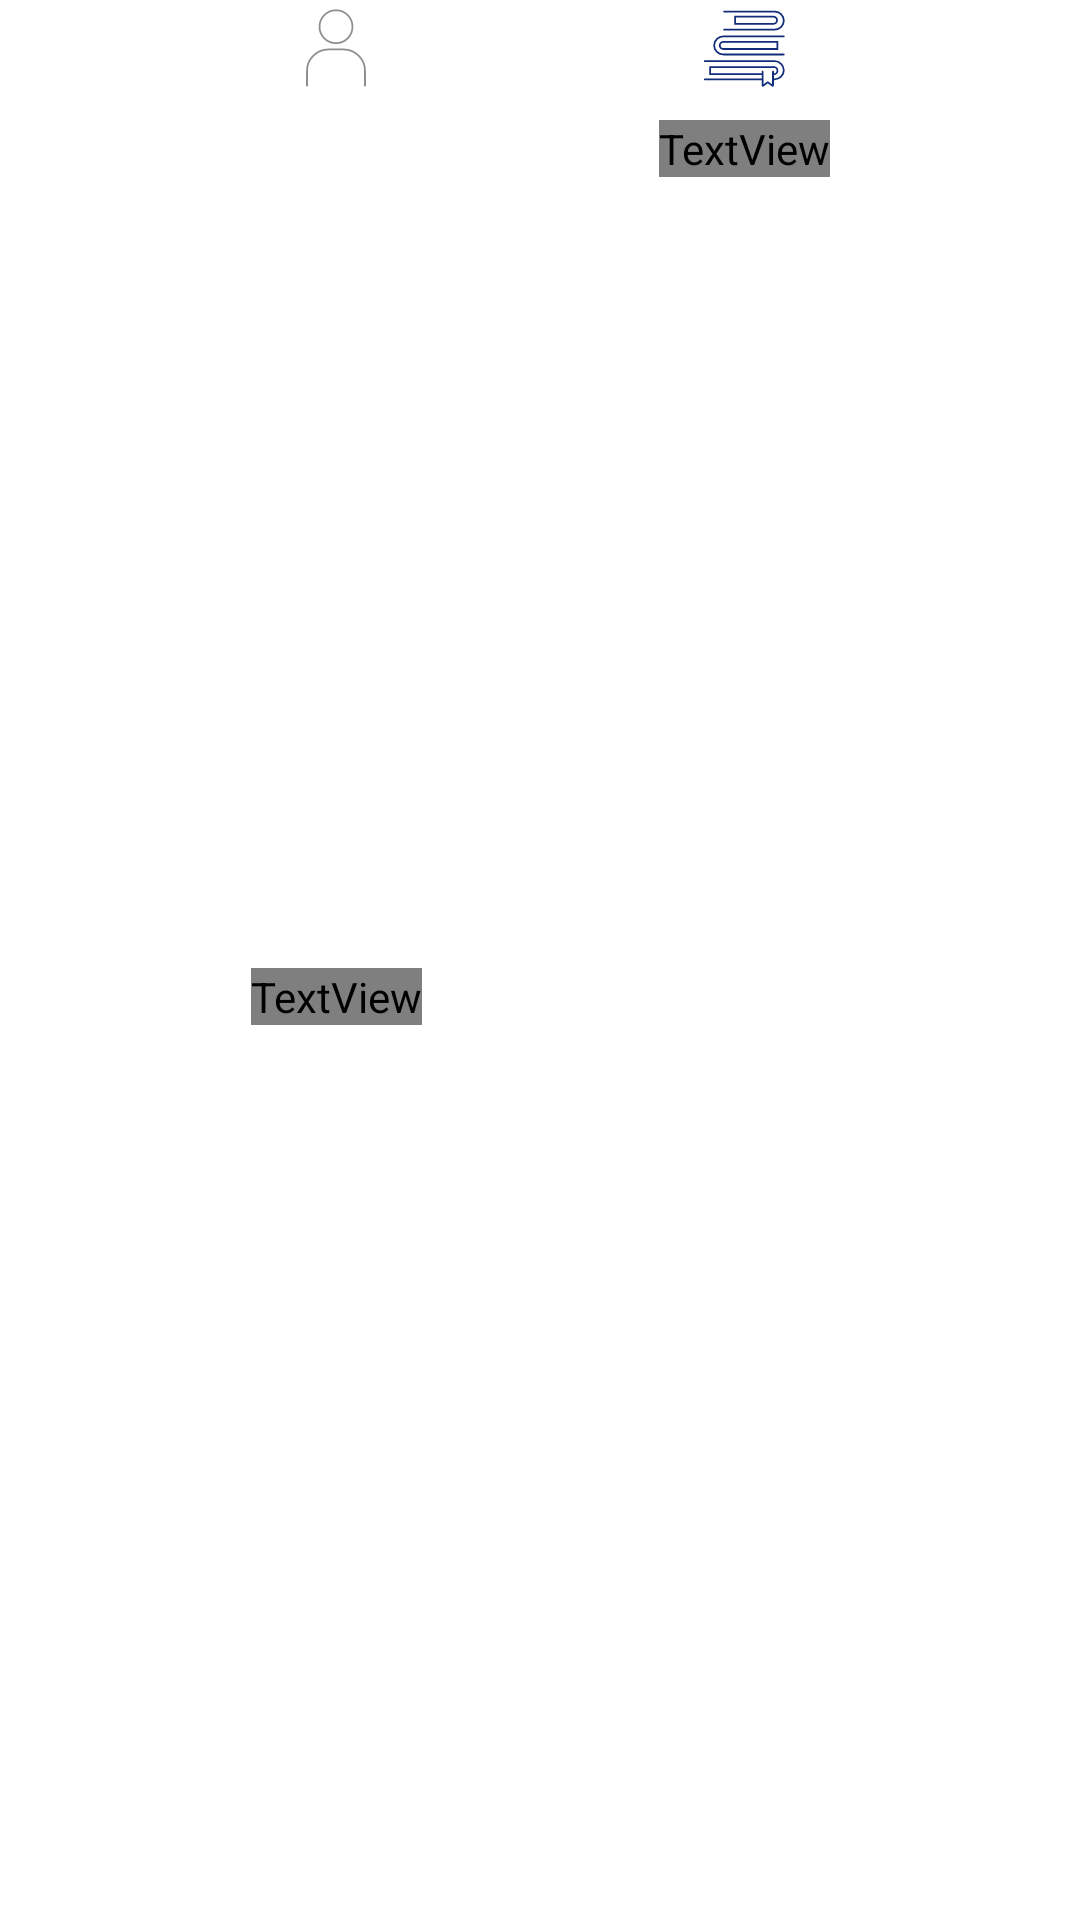

Icon click points for this 1080×1920 phone screenshot, format (x=x, y=y):
mypage: (x=336, y=48)
